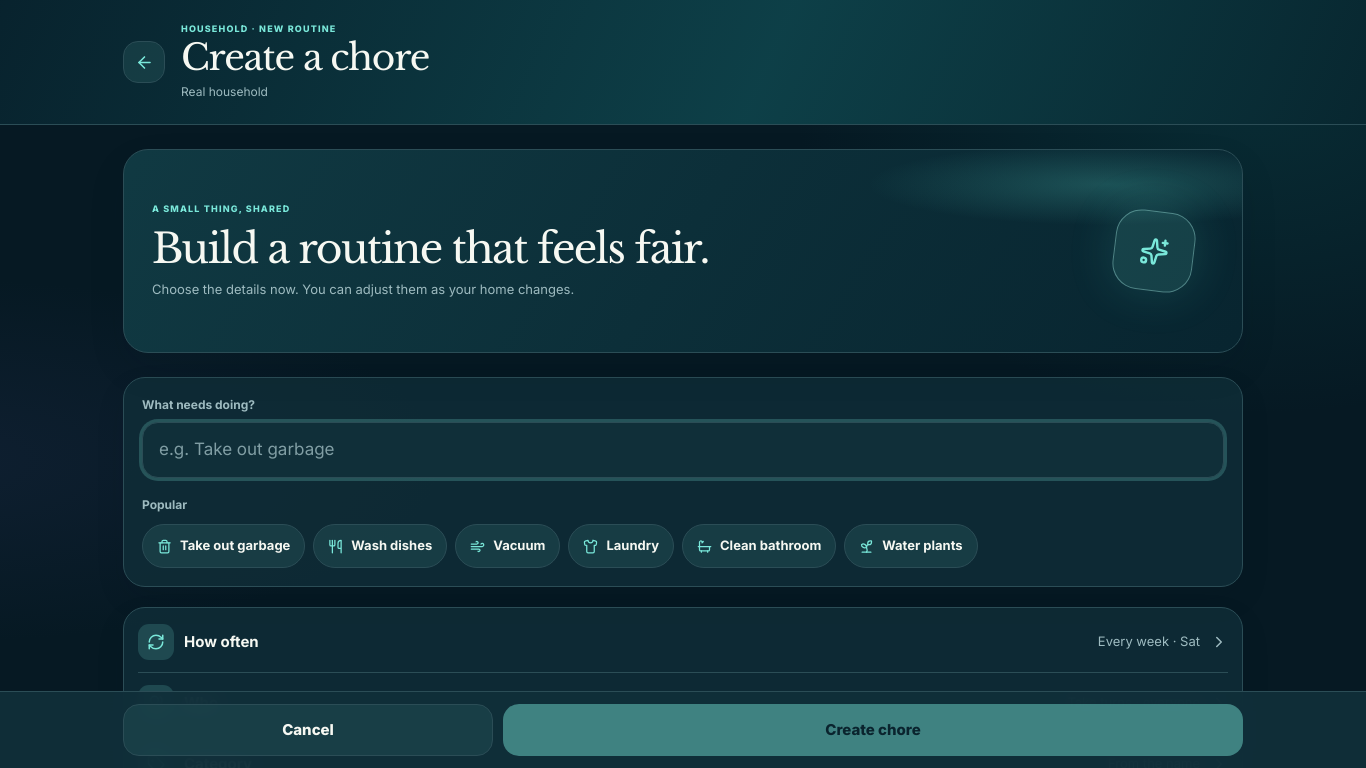
Test: ChoreFormScreen · quick create › keeps the user's input and shows a failed save in the footer
Type "Vacuum stairs" into the field labelled "What needs doing?".
click(683, 450); type("Vacuum stairs")  # box [142,422,1224,478]
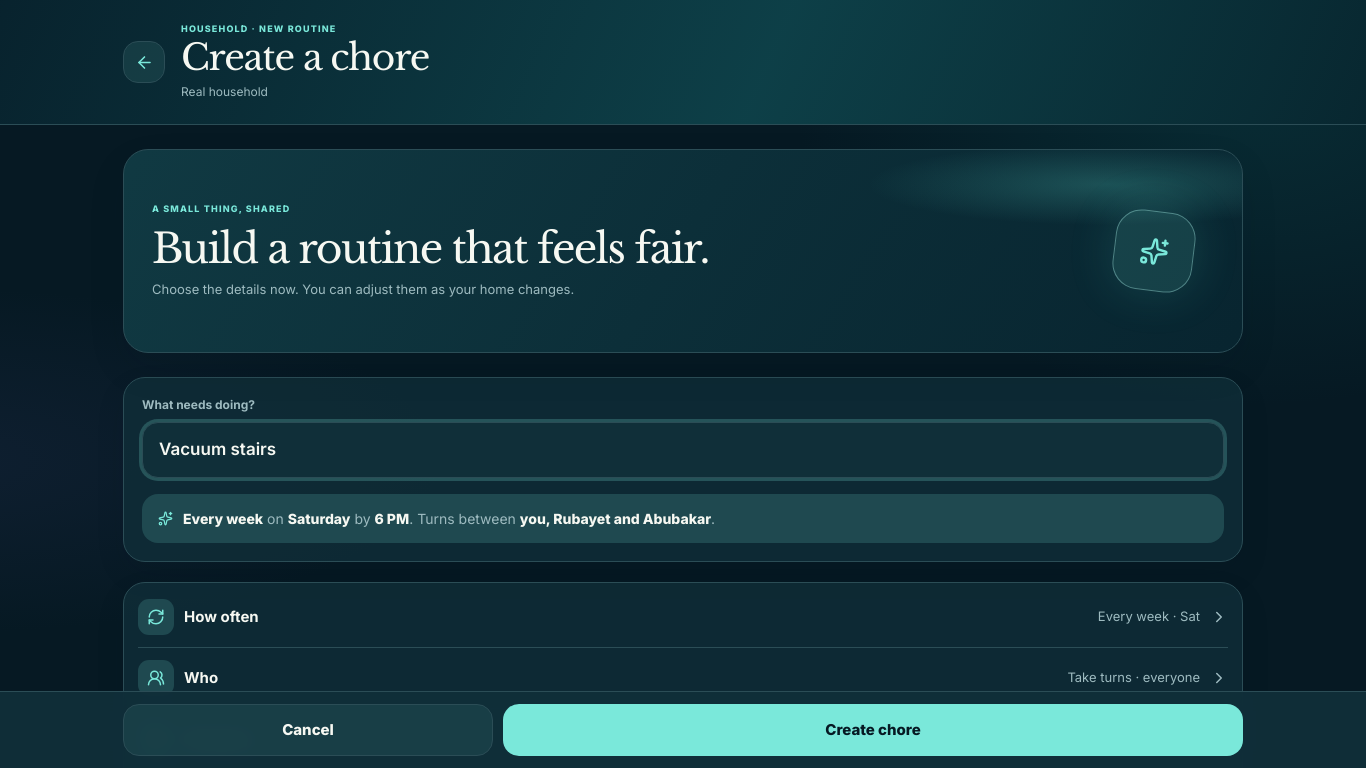
Click the button "Create chore".
click(873, 730)  # box [503,704,1243,756]
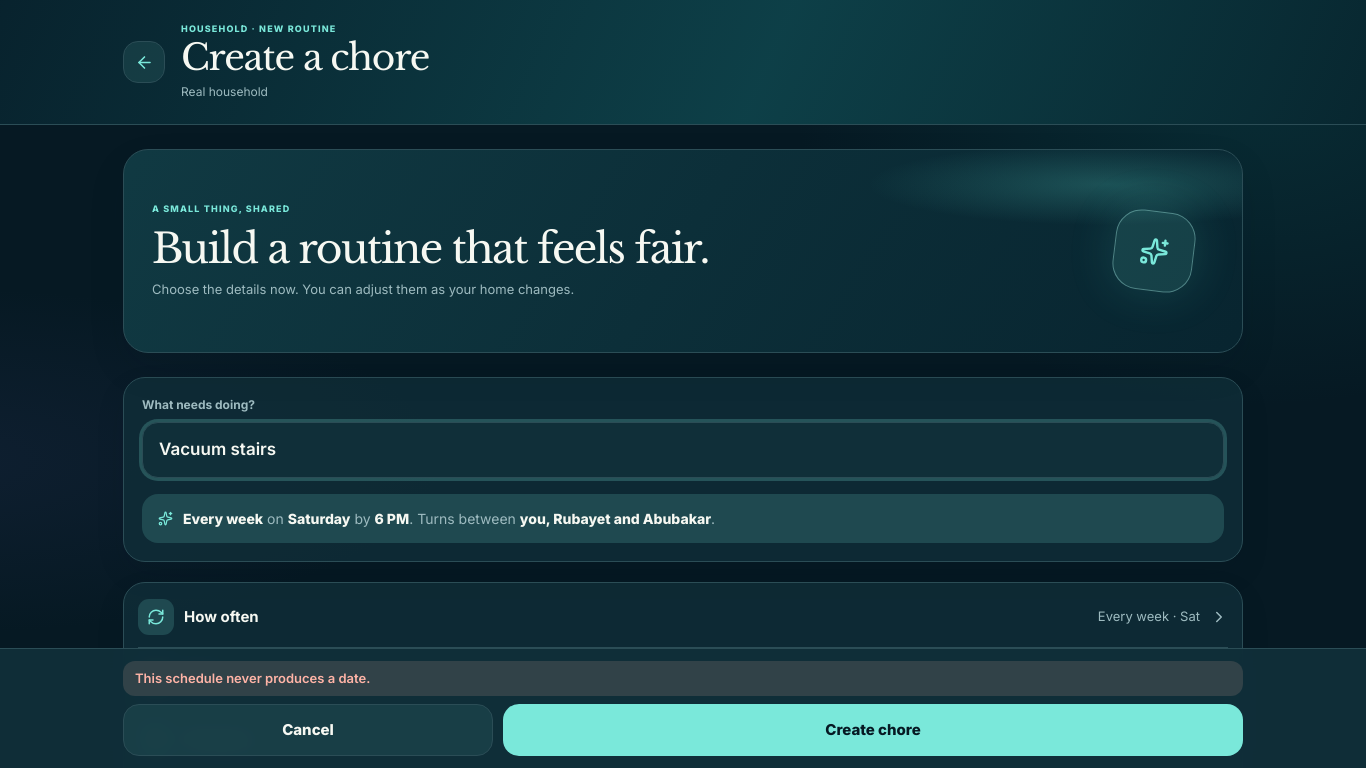
Expected: the button "Create chore" is enabled, [503,704,1243,756]
Expected: the message reads "This schedule never produces a date.", [135,670,370,686]
